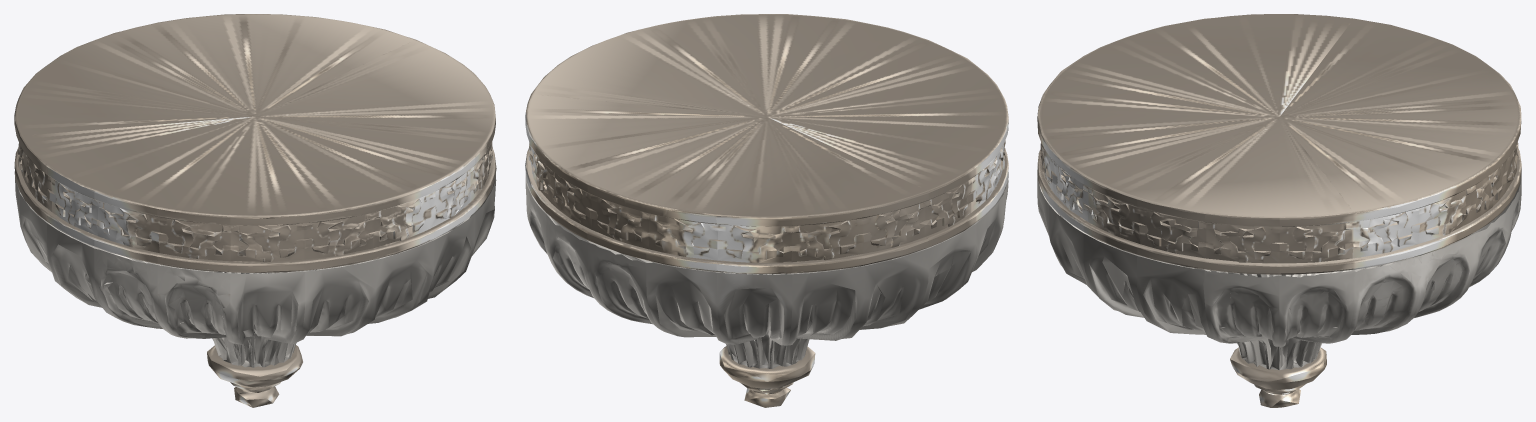
Rendered from raw_model.obj.
3 views of the same model, side by side, from view 1: azimuth 30°, elevation 25°; view 2: azimuth 150°, elevation 25°; view 3: azimuth 270°, elevation 25° (orthographic).
Parts seen in each view (by area): view 1: solid_001, glass_001; view 2: solid_001, glass_001; view 3: solid_001, glass_001.
Boxes of the visible parts, x1,y1,x2,y2 form: solid_001: (14, 14, 496, 407); glass_001: (14, 171, 496, 367); solid_001: (525, 14, 1008, 407); glass_001: (525, 172, 1008, 368); solid_001: (1037, 14, 1521, 407); glass_001: (1037, 170, 1521, 370).
Size of the model in its own units: 0.6198 by 0.4063 by 0.6198.
Materials: 1 (1 with a texture image).
